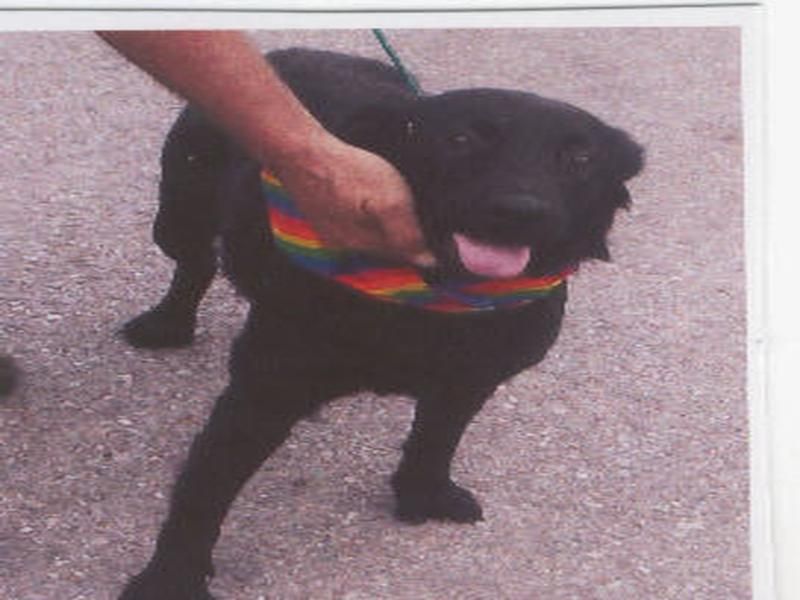dog: (113, 50, 651, 588)
